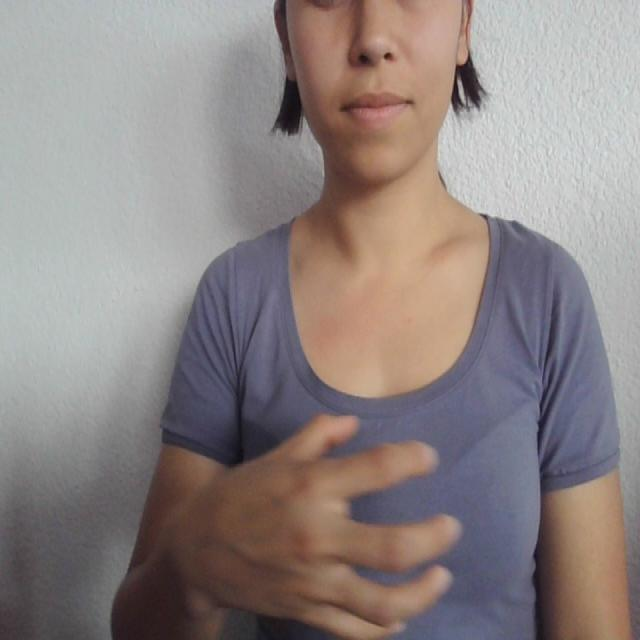Anne: (163, 389, 589, 640)
